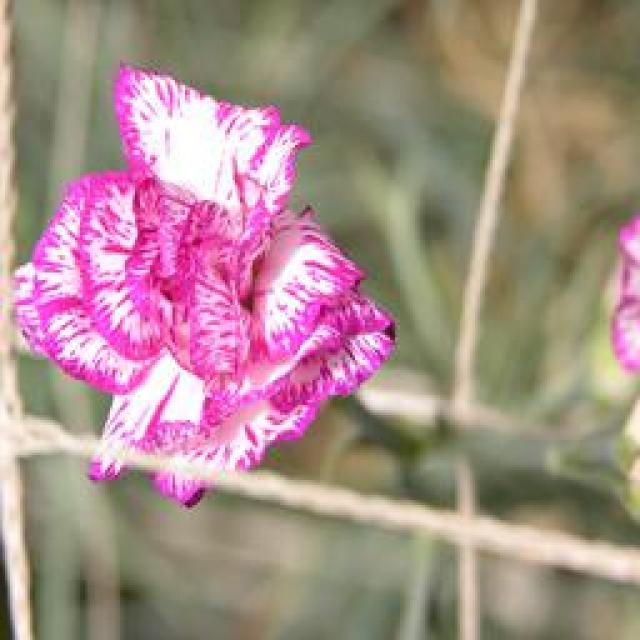carnation: (15, 60, 389, 495)
